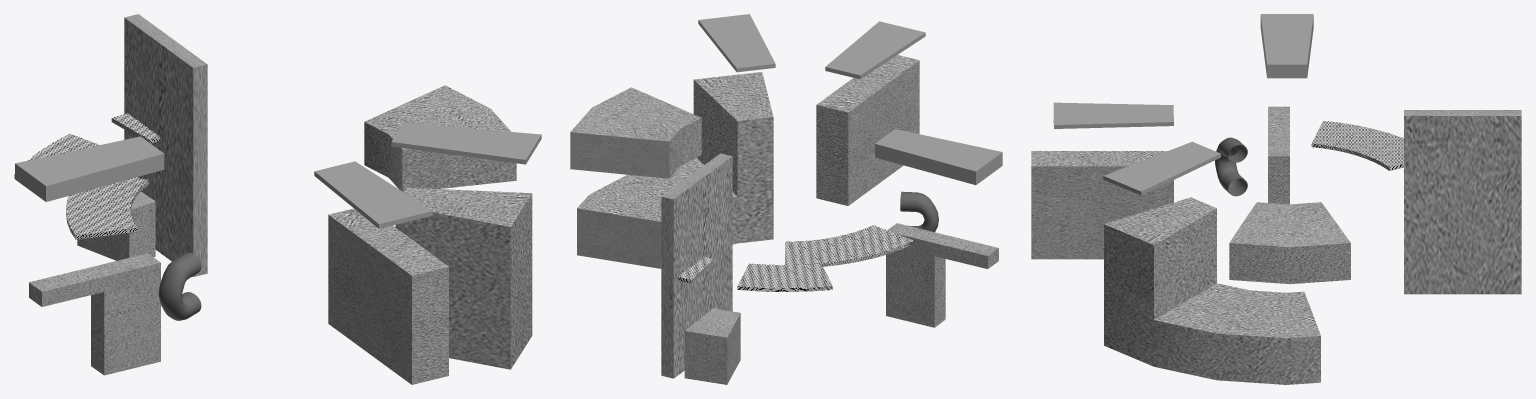
The model's file is tutorial_statics_walls.fbx.
3 views of the same model, side by side, from view 1: azimuth 30°, elevation 25°; view 2: azimuth 150°, elevation 25°; view 3: azimuth 270°, elevation 25° (orthographic). The views are drawn at different scales.
Visible parts, largest first — view 1: pPipe6, pCube32, pared1, pCube17, pPipe7, pCube24, platformStatic, pCube43, pCube34, pCube23, pTorus1; view 2: pPipe6, pared1, pCube32, pPipe7, pCube17, platformStatic, pCube24, pCube23, pCube34, pCube43, pTorus1; view 3: pPipe6, pared1, pCube32, pPipe7, pCube24, pCube34, pCube43, platformStatic, pCube17, pTorus1.
Boxes of the visible parts, box(x1,y1,x2,y2) form: pPipe6: box(395, 187, 532, 369); pCube32: box(328, 208, 448, 384); pared1: box(124, 14, 207, 276); pCube17: box(29, 253, 160, 375); pPipe7: box(364, 85, 516, 192); pCube24: box(15, 136, 164, 201); platformStatic: box(14, 113, 160, 239); pCube43: box(391, 122, 541, 164); pCube34: box(314, 161, 432, 228); pCube23: box(77, 191, 155, 260); pTorus1: box(158, 252, 201, 320); pPipe6: box(577, 72, 773, 268); pared1: box(661, 153, 732, 378); pCube32: box(816, 55, 919, 205); pPipe7: box(570, 87, 701, 178); pCube17: box(886, 223, 998, 327); platformStatic: box(677, 225, 914, 291); pCube24: box(875, 129, 1002, 185); pCube23: box(684, 308, 740, 384); pCube34: box(825, 21, 925, 79); pCube43: box(698, 14, 775, 72); pTorus1: box(900, 191, 938, 232); pPipe6: box(1104, 197, 1320, 384); pared1: box(1404, 110, 1521, 294); pCube32: box(1031, 151, 1173, 259); pPipe7: box(1229, 202, 1350, 284); pCube24: box(1260, 14, 1313, 78); pCube34: box(1053, 102, 1173, 128); pCube43: box(1103, 141, 1220, 195); platformStatic: box(1311, 121, 1403, 170); pCube17: box(1268, 106, 1289, 204); pTorus1: box(1215, 137, 1247, 196).
Bounding box in the file's own units: 3507 × 1500 × 3737.
4 materials, 2 textured.
